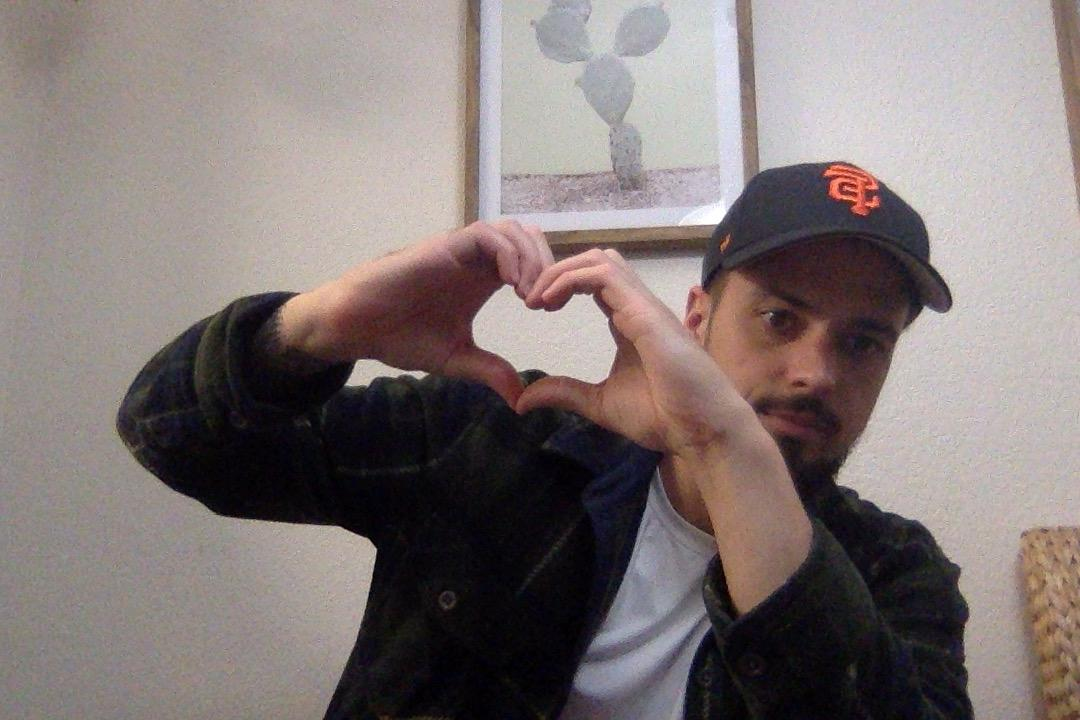Heart: (302, 215, 755, 414)
